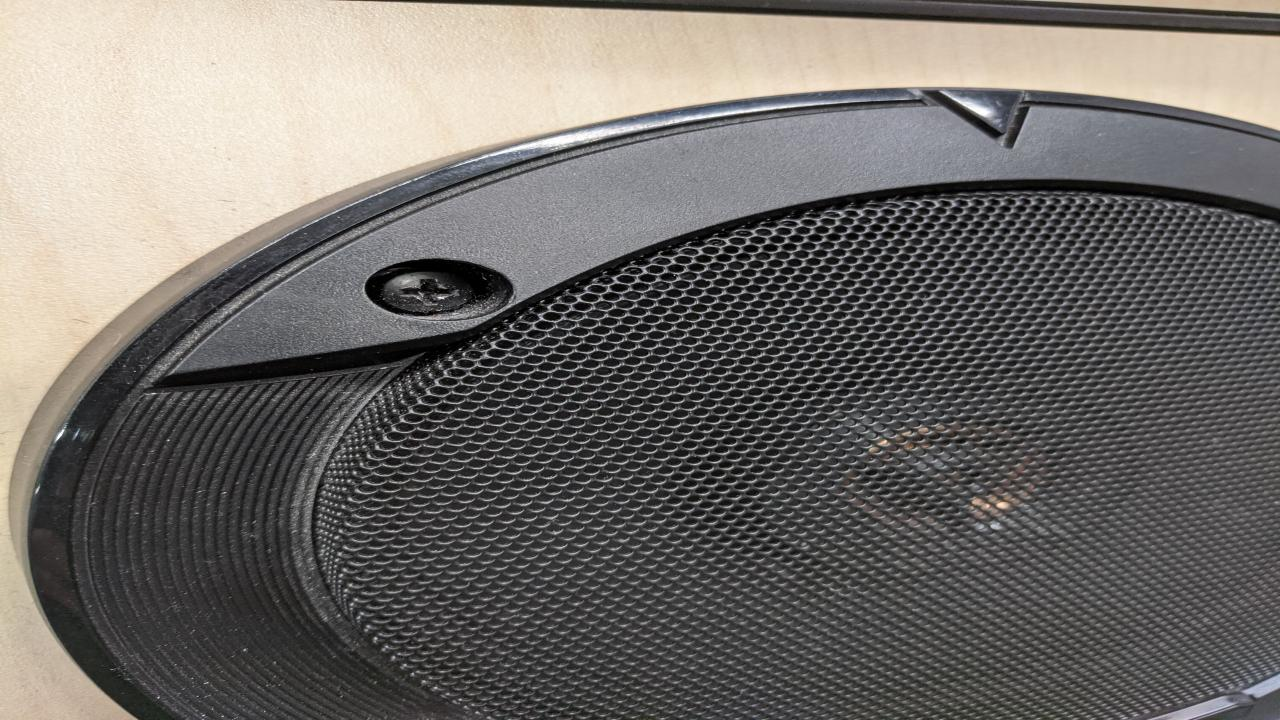CRS: (365, 264, 479, 316)
